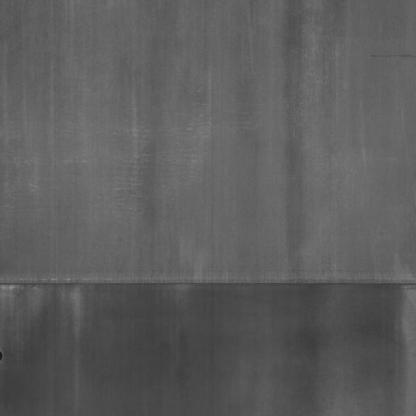punching_hole: (0, 341, 11, 370)
welding_line: (1, 273, 416, 299)
